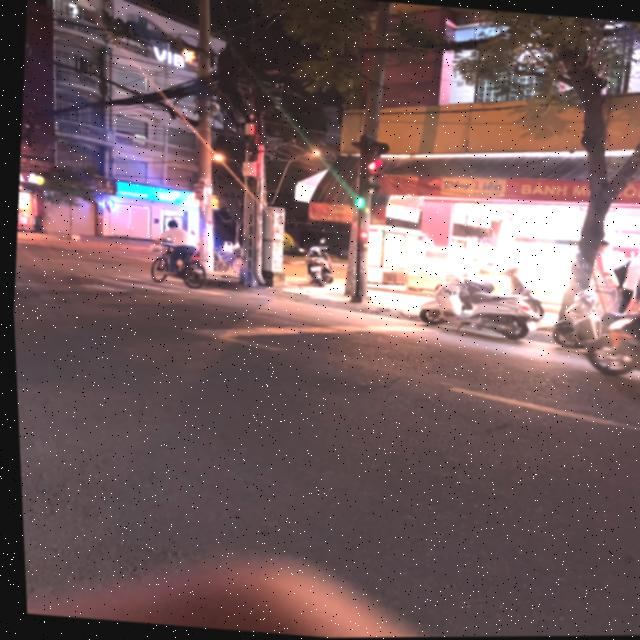Red: (354, 155, 381, 197), (352, 227, 368, 253)
